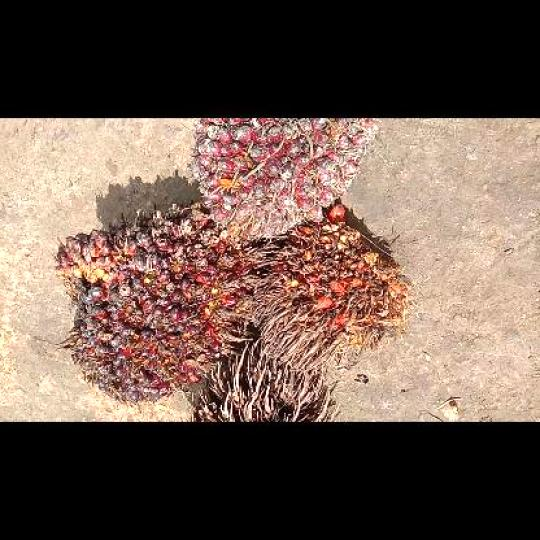kurang masak: (188, 119, 381, 239)
masak: (55, 204, 262, 406)
terlalu masak: (257, 204, 413, 372)
